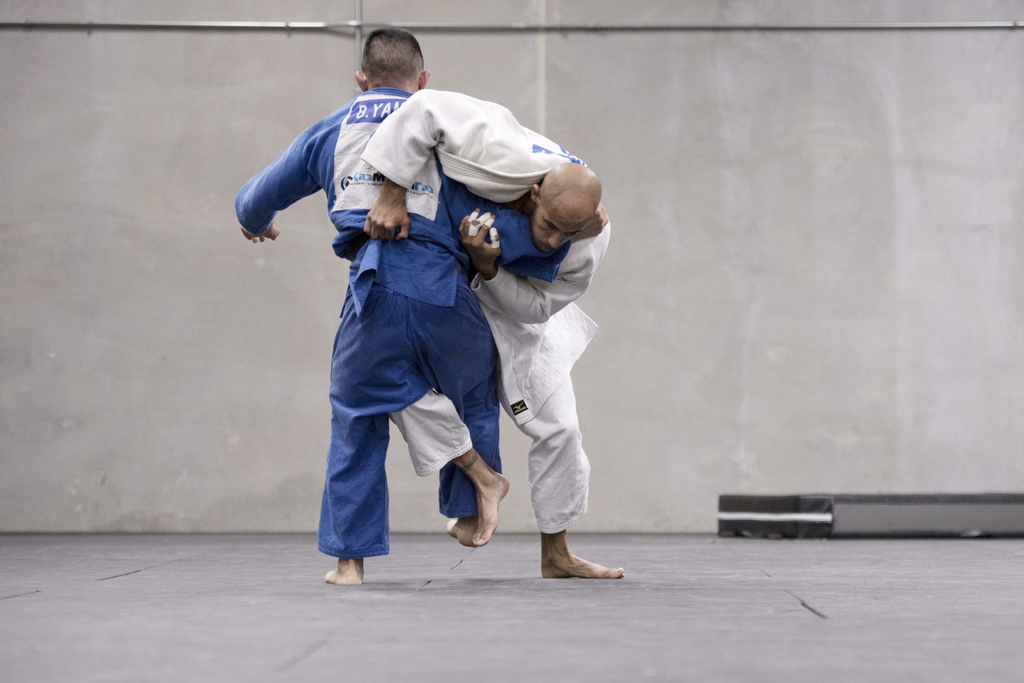Person: (233, 24, 608, 586), (359, 88, 624, 578)
